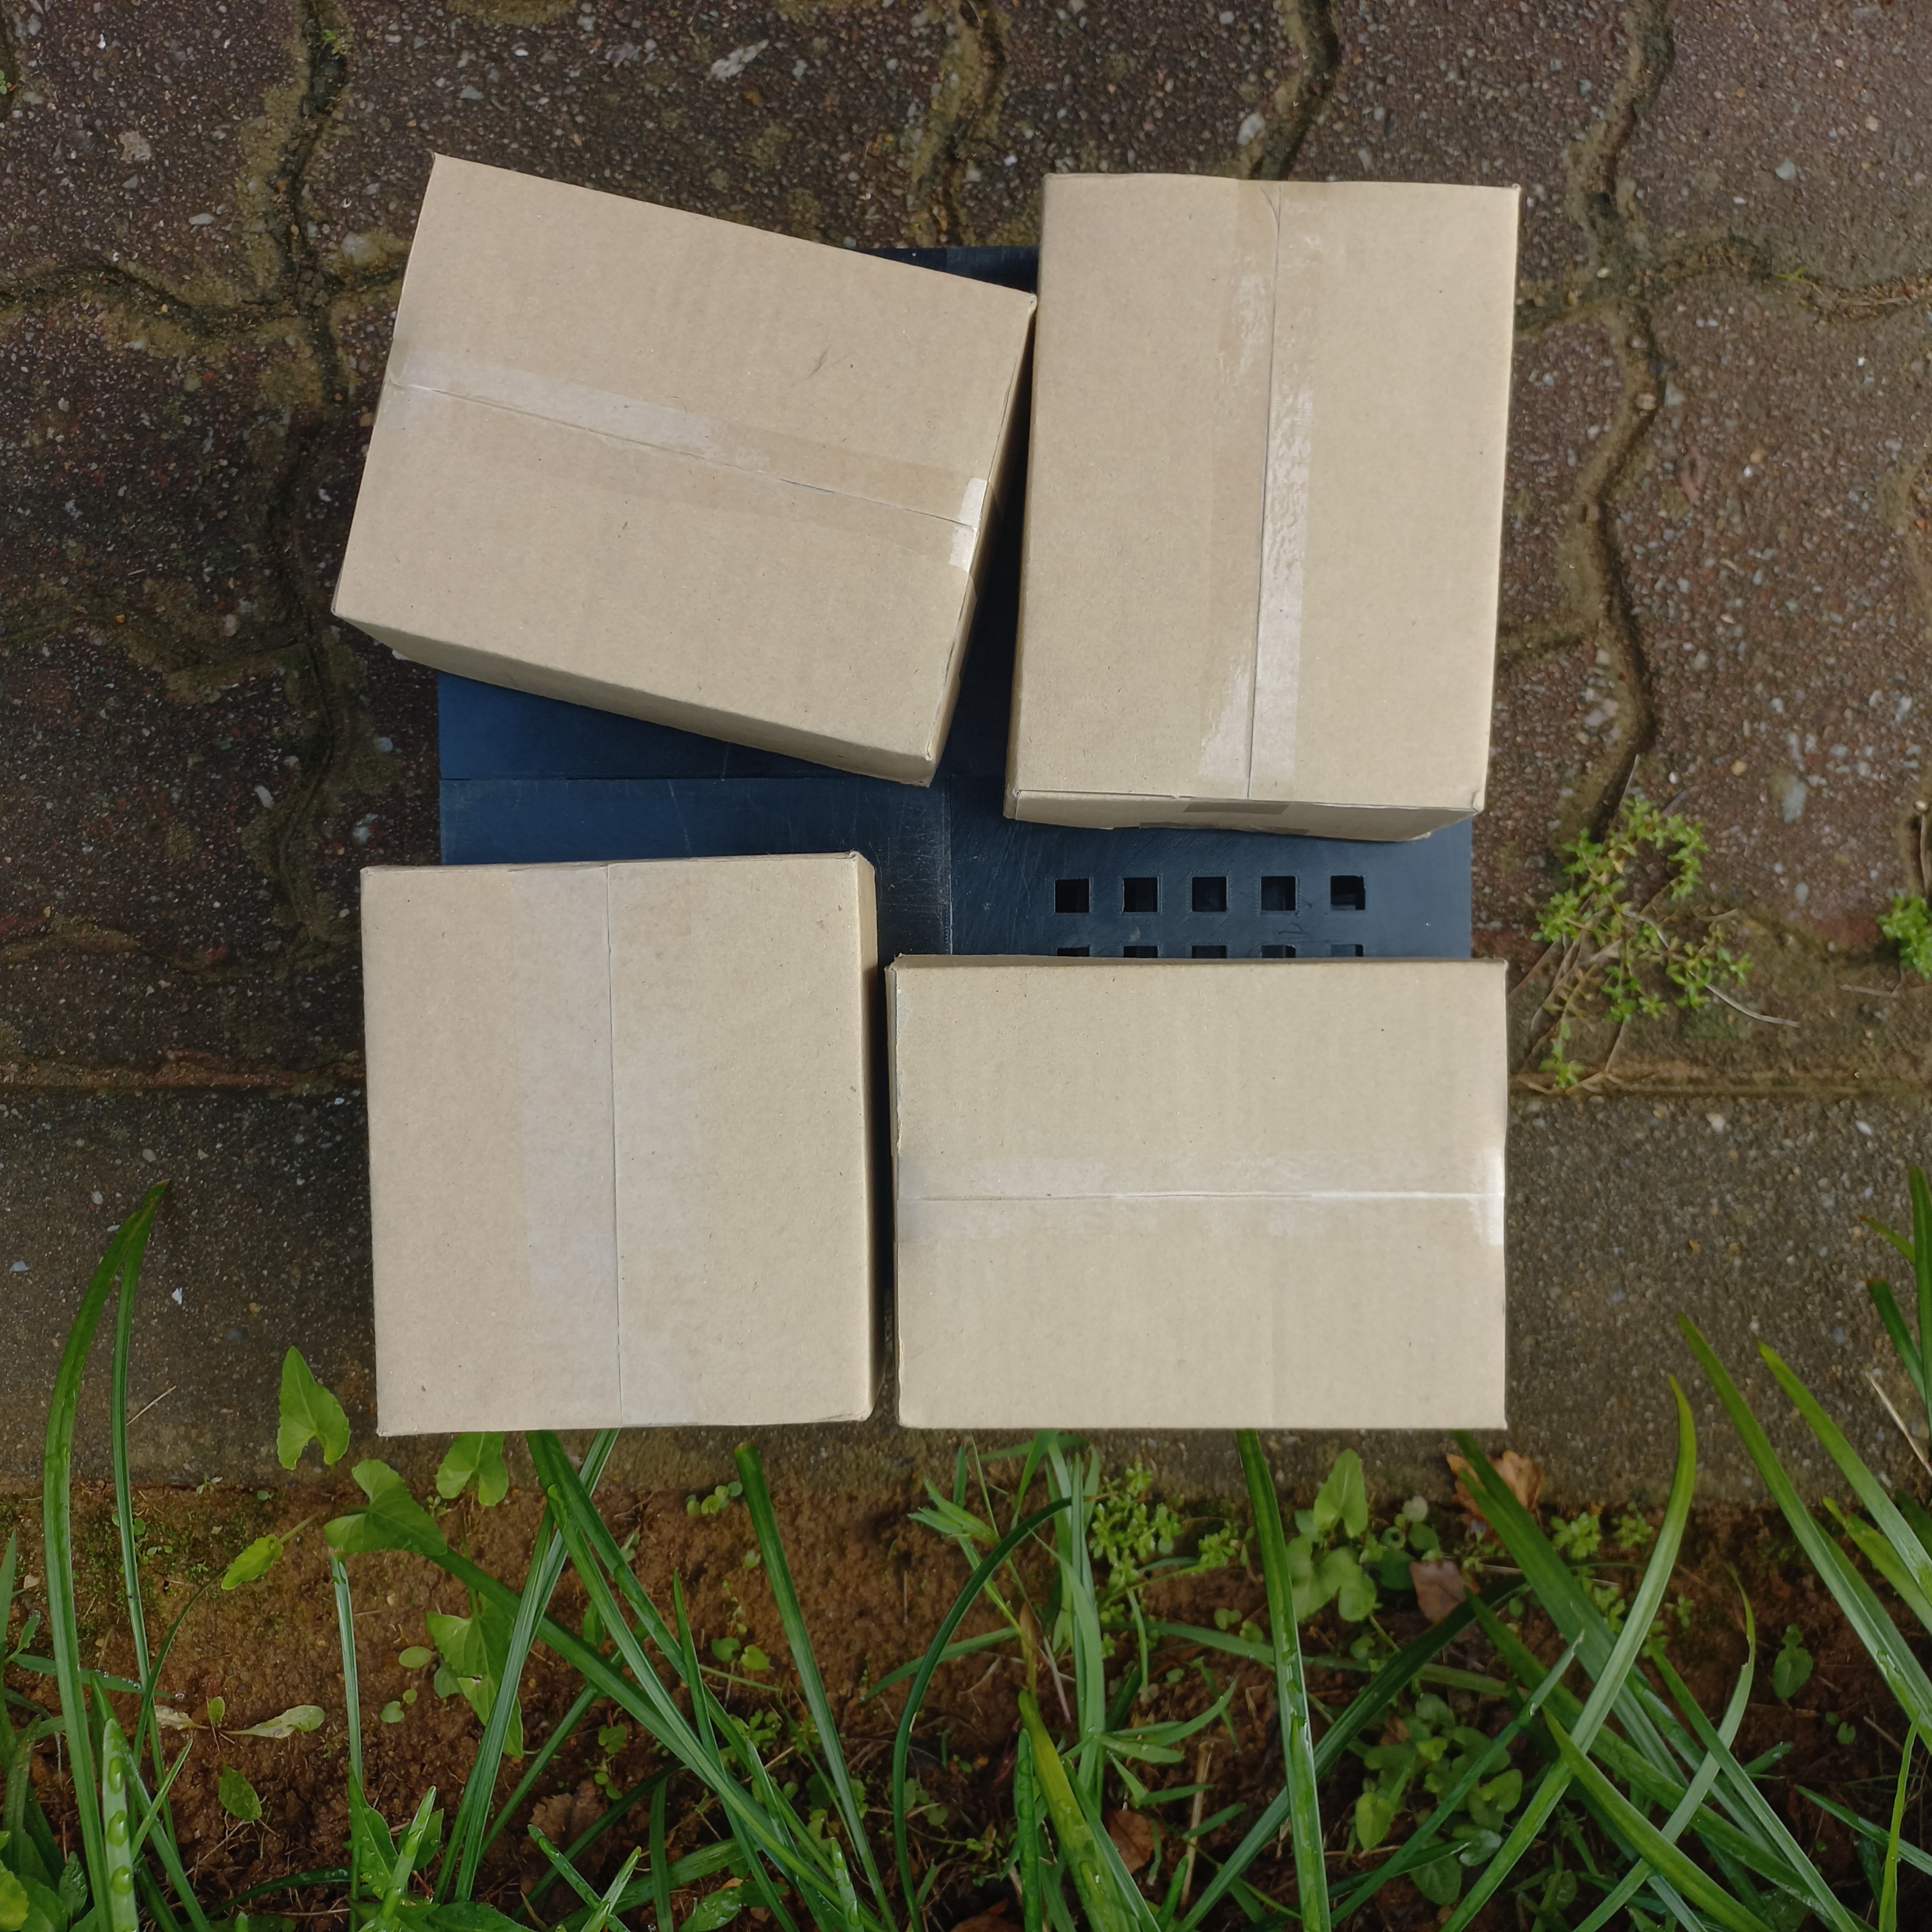box: (324, 143, 1039, 782), (998, 159, 1525, 842), (350, 842, 883, 1431), (886, 952, 1509, 1424)
